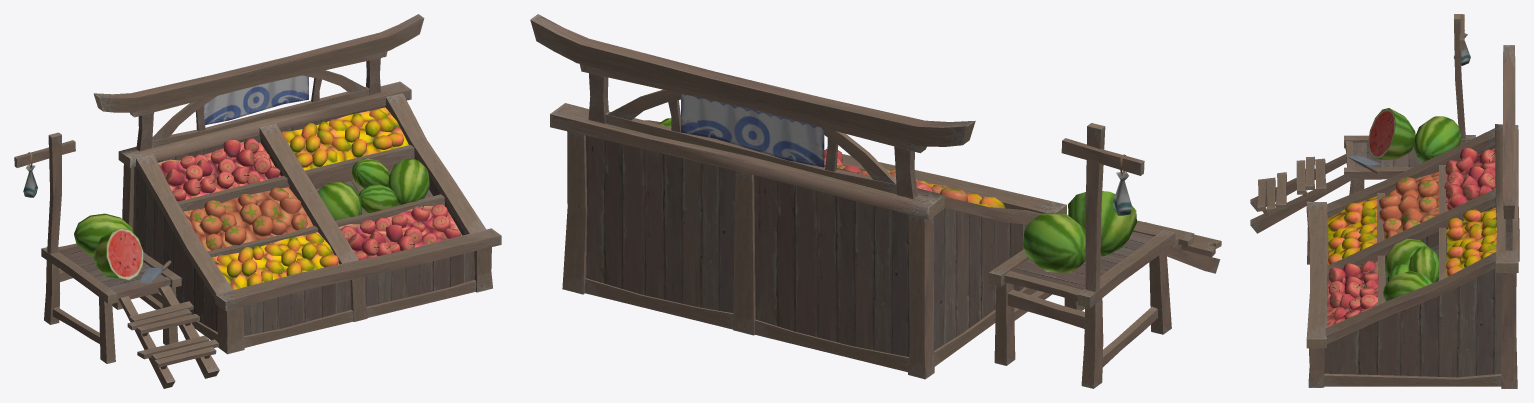
The model's file is Homeworld_Exterior_Dq_Build_TanWei_07_Lod0.fbx.
The picture shows the model from 3 angles, left to right: view 1: azimuth 30°, elevation 25°; view 2: azimuth 150°, elevation 25°; view 3: azimuth 270°, elevation 25°; orthographic projection. The views are drawn at different scales.
Visible parts, largest first — view 1: Area_Dq_Prop_Common_TanWei_05_Lod0; view 2: Area_Dq_Prop_Common_TanWei_05_Lod0; view 3: Area_Dq_Prop_Common_TanWei_05_Lod0.
Part boxes in pixels (x1,y1,x2,y2): Area_Dq_Prop_Common_TanWei_05_Lod0: (14, 14, 501, 388); Area_Dq_Prop_Common_TanWei_05_Lod0: (530, 14, 1221, 388); Area_Dq_Prop_Common_TanWei_05_Lod0: (1250, 14, 1519, 388).
Size of what is drawn, in the model's own units: 3.67 by 1.58 by 1.97.
